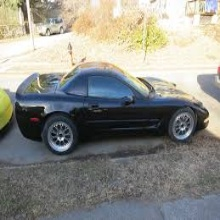no damage: (15, 61, 209, 155)
